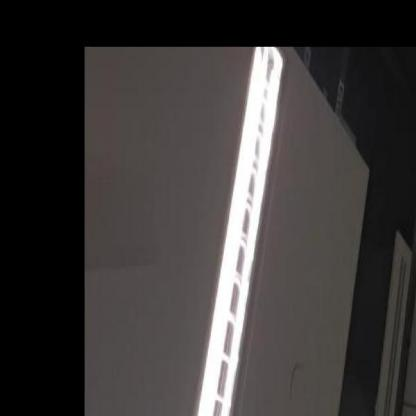light_on: (170, 13, 295, 414)
